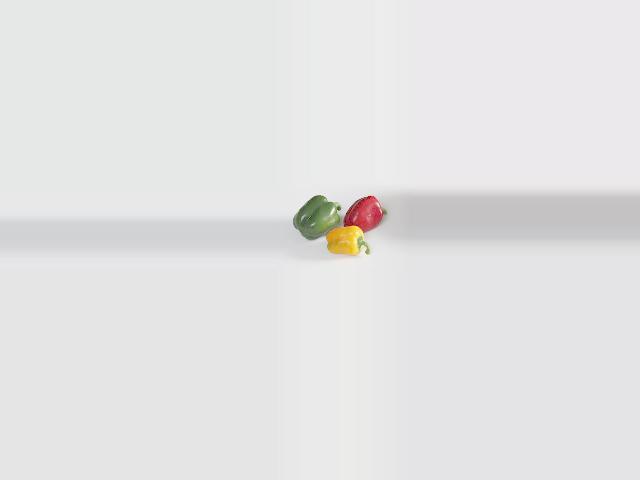bell_pepper: (325, 219, 370, 259)
